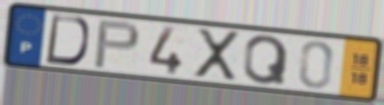0: (297, 39, 335, 91)
4: (147, 24, 186, 77)
D: (43, 12, 91, 67)
P: (91, 19, 143, 70)
Q: (242, 33, 291, 87)
X: (193, 26, 243, 83)
